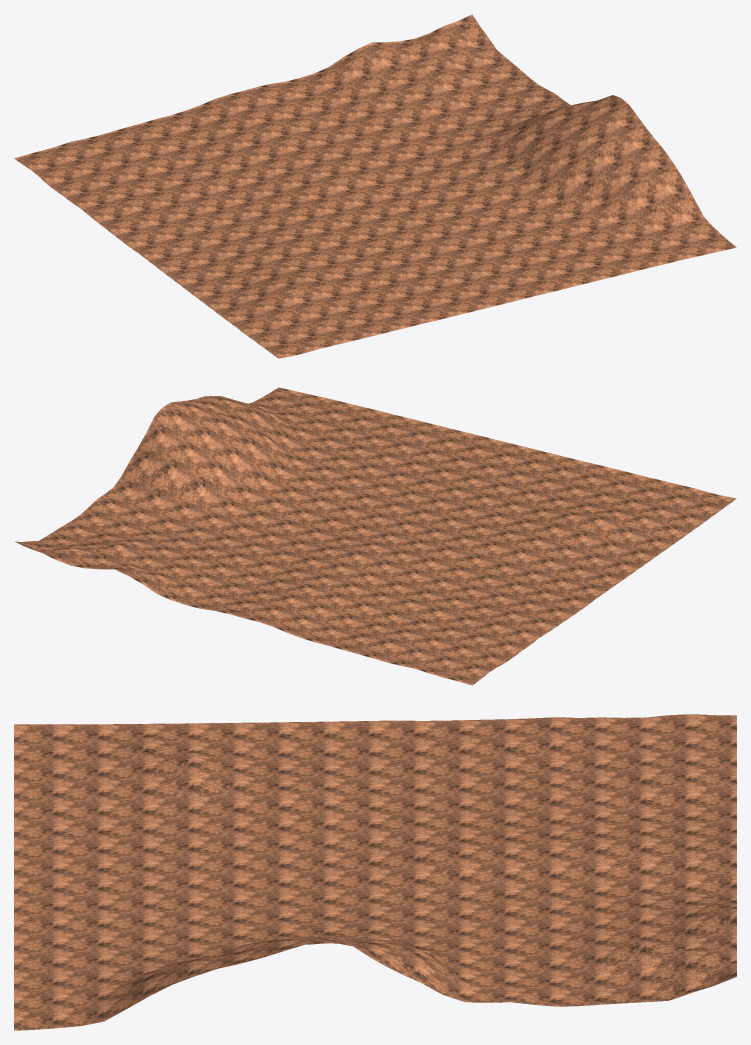
Rendered from terrain_01_05.dae.
The picture shows the model from 3 angles, top to bottom: view 1: azimuth 30°, elevation 25°; view 2: azimuth 150°, elevation 25°; view 3: azimuth 270°, elevation 25°; orthographic projection. The views are drawn at different scales.
Visible parts, largest first — view 1: terrain_01_05-node; view 2: terrain_01_05-node; view 3: terrain_01_05-node.
Part boxes in pixels (x1=…): terrain_01_05-node: x1=14, y1=14, x2=736, y2=358; terrain_01_05-node: x1=14, y1=387, x2=736, y2=685; terrain_01_05-node: x1=14, y1=714, x2=736, y2=1030.
Size of the model in its own units: 128 by 128 by 17.34.
Materials: 1 (1 with a texture image).
